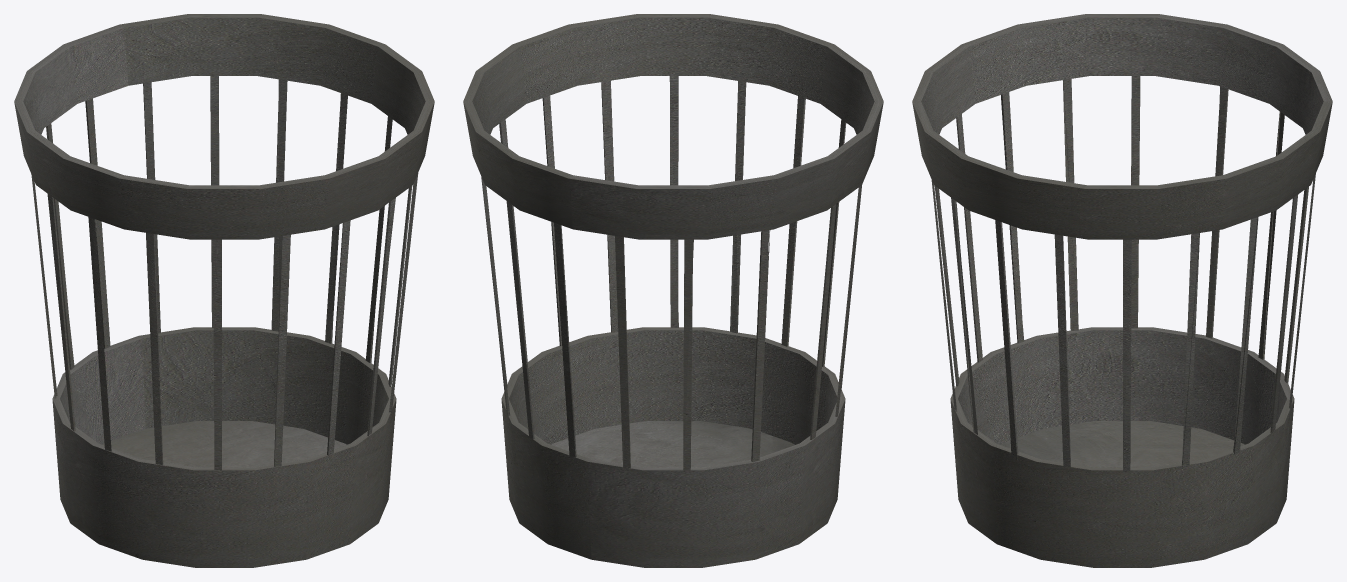
The model's file is Bin.FBX.
3 views of the same model, side by side, from view 1: azimuth 30°, elevation 25°; view 2: azimuth 150°, elevation 25°; view 3: azimuth 270°, elevation 25° (orthographic).
Visible parts, largest first — view 1: Bin; view 2: Bin; view 3: Bin.
Part boxes in pixels (x1,y1,x2,y2): Bin: [14, 14, 434, 567]; Bin: [463, 14, 883, 567]; Bin: [912, 14, 1332, 567].
Size of the model in its own units: 38.91 by 41.26 by 39.51.
1 material, 1 textured.
